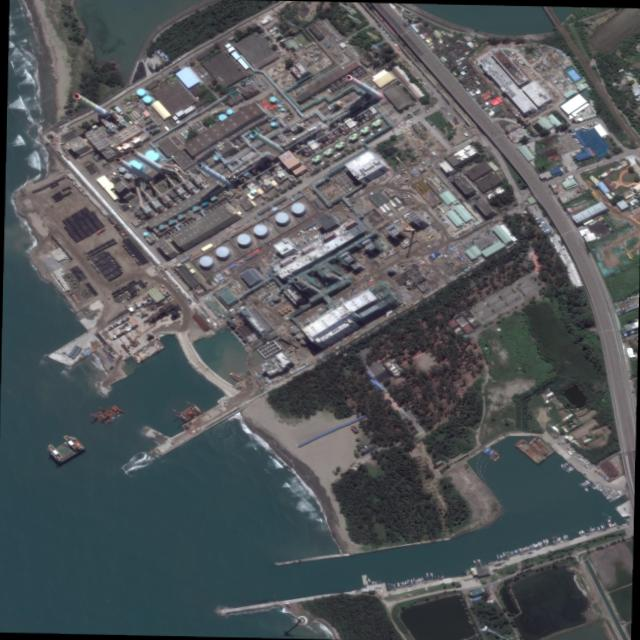ship: (130, 338, 165, 364), (513, 437, 546, 464), (528, 436, 554, 457)
storage-tank: (236, 233, 250, 245), (275, 211, 289, 223), (198, 255, 213, 266), (215, 246, 229, 257), (253, 224, 267, 235), (291, 202, 305, 213), (136, 88, 145, 95), (142, 95, 151, 102), (270, 294, 278, 300), (226, 108, 232, 114), (124, 172, 130, 178), (269, 96, 276, 101), (119, 167, 125, 172), (270, 121, 275, 126), (277, 103, 281, 107), (280, 107, 284, 110)
